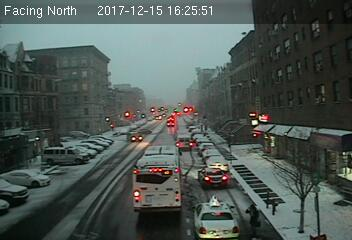bus: (132, 144, 183, 216)
car: (192, 195, 242, 238), (198, 167, 227, 187), (204, 156, 228, 172)
truck: (175, 134, 192, 149)
